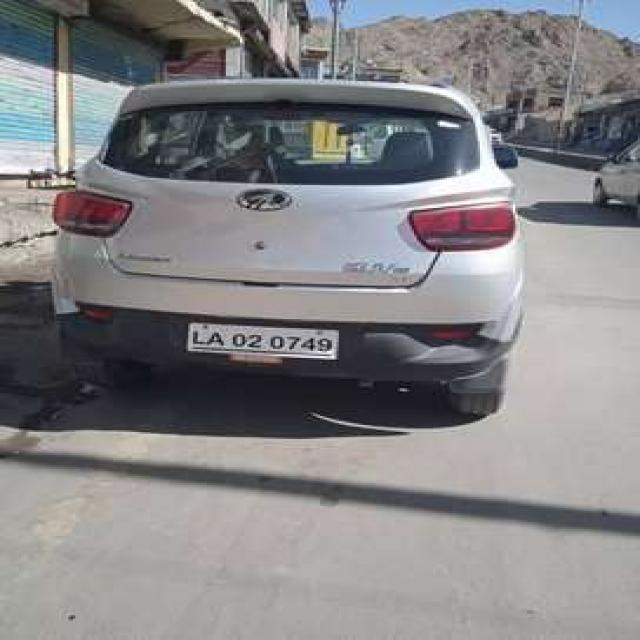license_plate: (180, 317, 346, 367)
